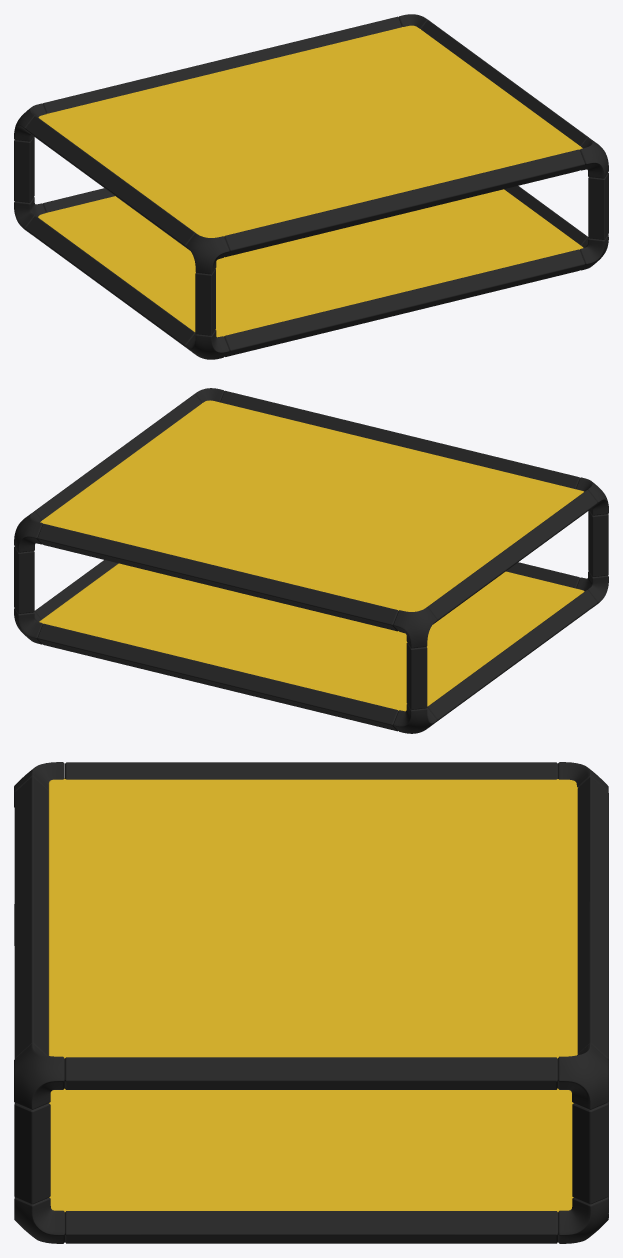
3 views of the same model, one above another, from view 1: azimuth 30°, elevation 25°; view 2: azimuth 150°, elevation 25°; view 3: azimuth 270°, elevation 25° (orthographic). The views are drawn at different scales.
Visible parts, largest first — view 1: 479x374x79; view 2: 479x374x79; view 3: 479x374x79.
Boxes of the visible parts, x1,y1,x2,y2 form: 479x374x79: [14, 14, 608, 359]; 479x374x79: [14, 388, 608, 733]; 479x374x79: [14, 762, 608, 1243].
Bounding box in the file's own units: 0.5567 × 0.1566 × 0.4513.
